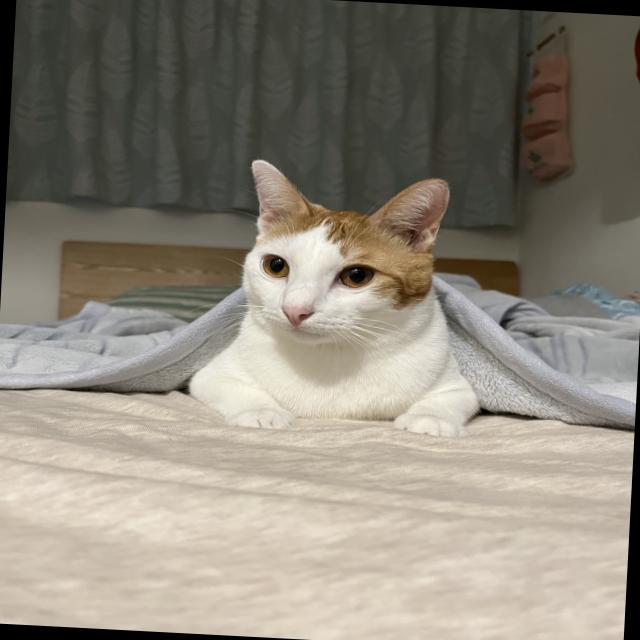cat1: (188, 155, 498, 446)
